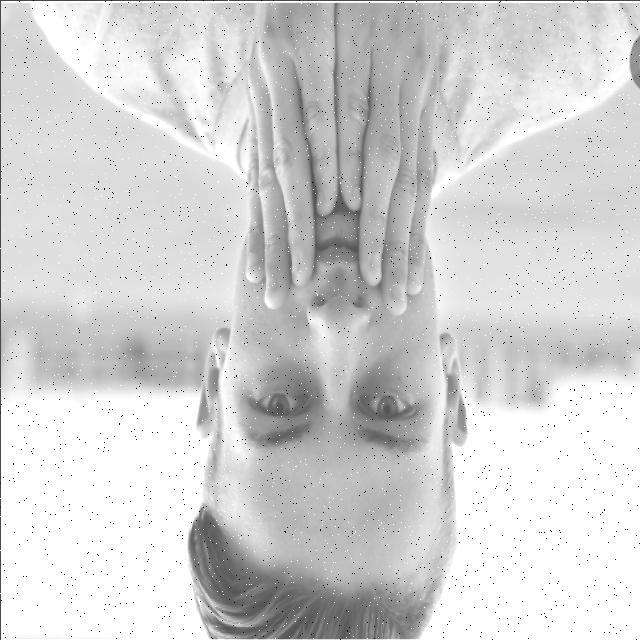face_with_hand: (196, 144, 472, 594)
